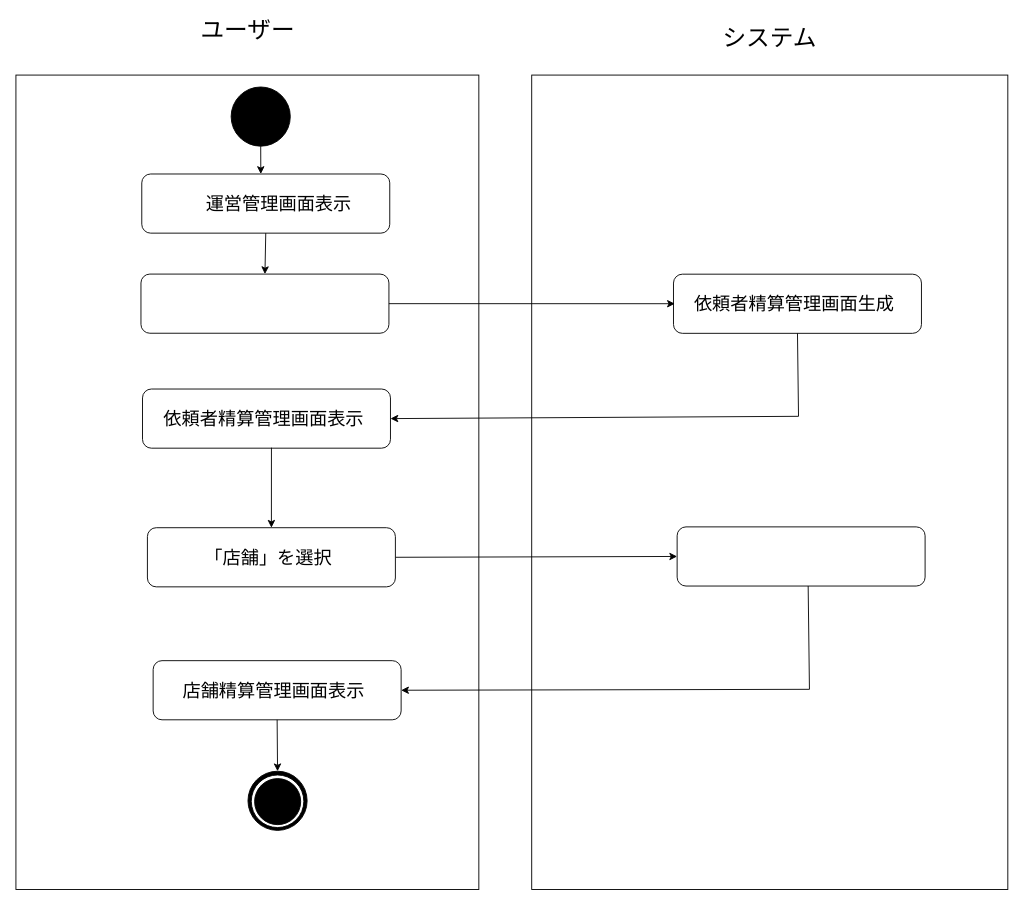
Some shapes in this 1024 by 905 pixel diagram are drawn without their labels. The centre of each missing label's shape, as x and y in pixels:
"「精算管理」を選択" goes at [264,303].
"店舗精算管理画面生成" goes at [800,556].
